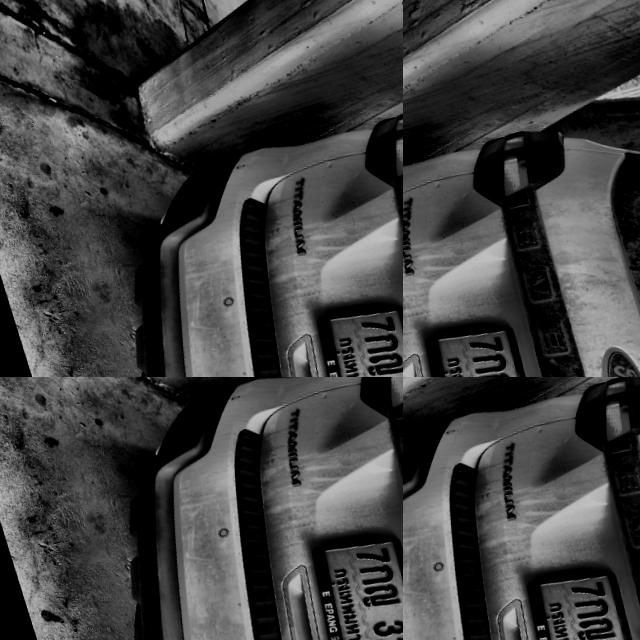license-plate: (500, 553, 640, 640)
